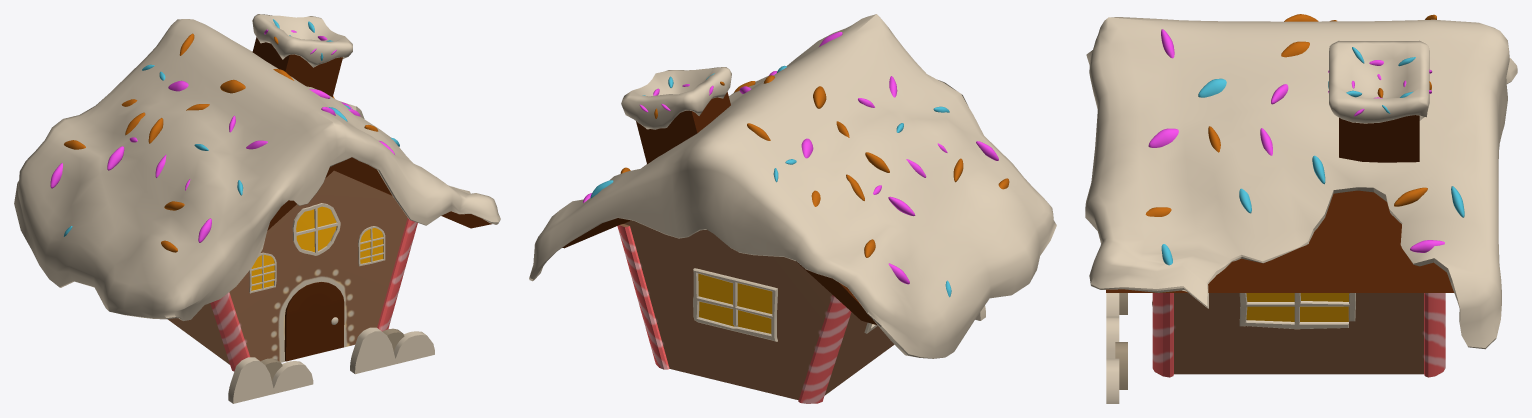
Rendered from Haus.fbx.
3 views of the same model, side by side, from view 1: azimuth 30°, elevation 25°; view 2: azimuth 150°, elevation 25°; view 3: azimuth 270°, elevation 25° (orthographic). The views are drawn at different scales.
Visible parts, largest first — view 1: polySurface11, polySurface9, polySurface17, polySurface7, polySurface1, pDisc1, pDisc9, pCylinder37, pCylinder36, pCylinder35; view 2: polySurface11, polySurface9, polySurface7, polySurface18, pCylinder36, pCylinder37, pCylinder35; view 3: polySurface11, polySurface9, polySurface7, polySurface18, polySurface17, pCylinder37, pCylinder35, pCylinder36.
Boxes of the visible parts, left/top/right/bottom form: polySurface11: left=14, top=19, right=500, bottom=320; polySurface9: left=168, top=157, right=491, bottom=371; polySurface17: left=228, top=327, right=434, bottom=403; polySurface7: left=252, top=14, right=352, bottom=97; polySurface1: left=284, top=282, right=344, bottom=361; pDisc1: left=292, top=203, right=340, bottom=255; pDisc9: left=249, top=226, right=385, bottom=293; pCylinder37: left=50, top=29, right=394, bottom=242; pCylinder36: left=64, top=33, right=378, bottom=252; pCylinder35: left=63, top=19, right=399, bottom=236; polySurface11: left=529, top=14, right=1056, bottom=358; polySurface9: left=562, top=164, right=894, bottom=403; polySurface7: left=621, top=67, right=731, bottom=164; polySurface18: left=693, top=268, right=877, bottom=341; pCylinder36: left=620, top=75, right=1009, bottom=257; pCylinder37: left=583, top=32, right=998, bottom=284; pCylinder35: left=590, top=65, right=951, bottom=297; polySurface11: left=1085, top=17, right=1517, bottom=349; polySurface9: left=1106, top=190, right=1453, bottom=377; polySurface7: left=1329, top=40, right=1429, bottom=162; polySurface18: left=1239, top=293, right=1355, bottom=329; polySurface17: left=1106, top=293, right=1127, bottom=403; pCylinder37: left=1148, top=29, right=1444, bottom=252; pCylinder35: left=1161, top=47, right=1464, bottom=265; pCylinder36: left=1145, top=14, right=1436, bottom=216.
Size of the model in its own units: 16.77 by 11.72 by 13.93.
